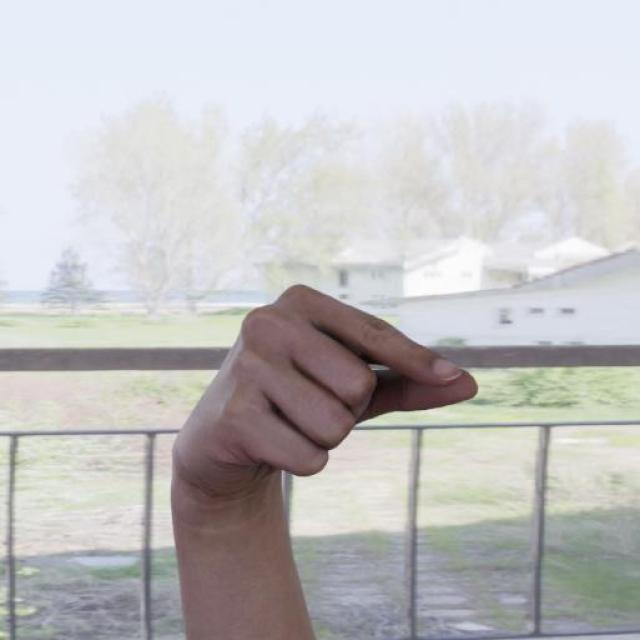G: (172, 284, 479, 494)
